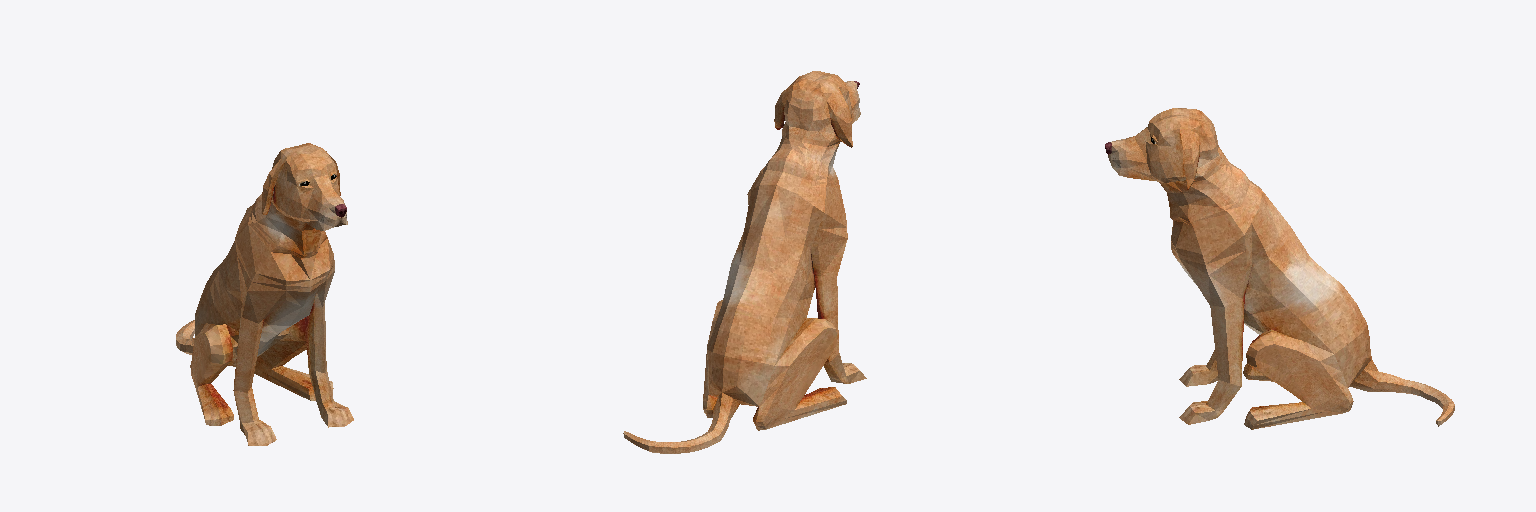
3 renders of one model, left to right at view 1: azimuth 30°, elevation 25°; view 2: azimuth 150°, elevation 25°; view 3: azimuth 270°, elevation 25°, orthographic.
Visible parts, largest first — view 1: Plane; view 2: Plane; view 3: Plane.
Boxes of the visible parts, box(x1,y1,x2,y2) form: Plane: box(176, 143, 353, 445); Plane: box(623, 71, 866, 453); Plane: box(1105, 108, 1454, 429).
Bounding box in the file's own units: 0.4292 × 0.9029 × 1.
Materials: 1 (1 with a texture image).